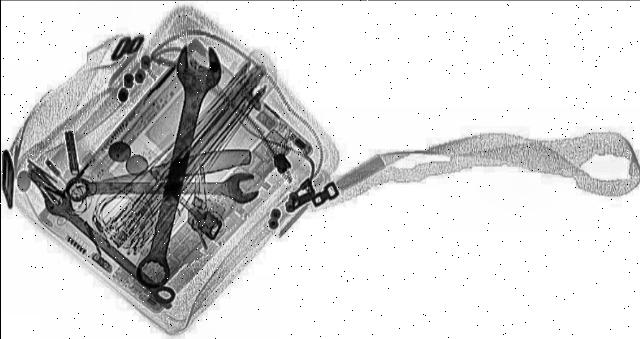Knife: (46, 144, 258, 200)
Wrench: (128, 45, 224, 287), (32, 191, 182, 305), (60, 172, 256, 206)
